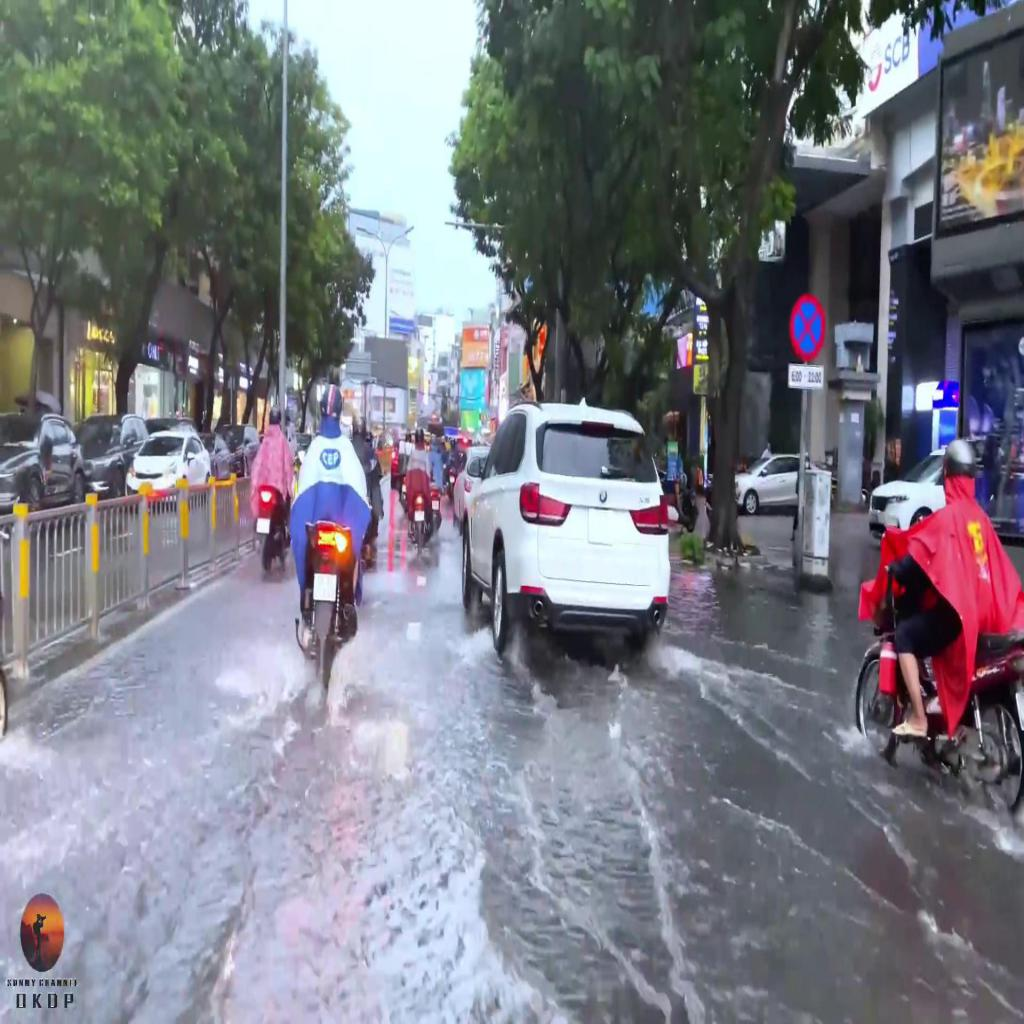cam_dung_xe_va_do_xe: (789, 286, 827, 365)
khac: (787, 361, 825, 389)
